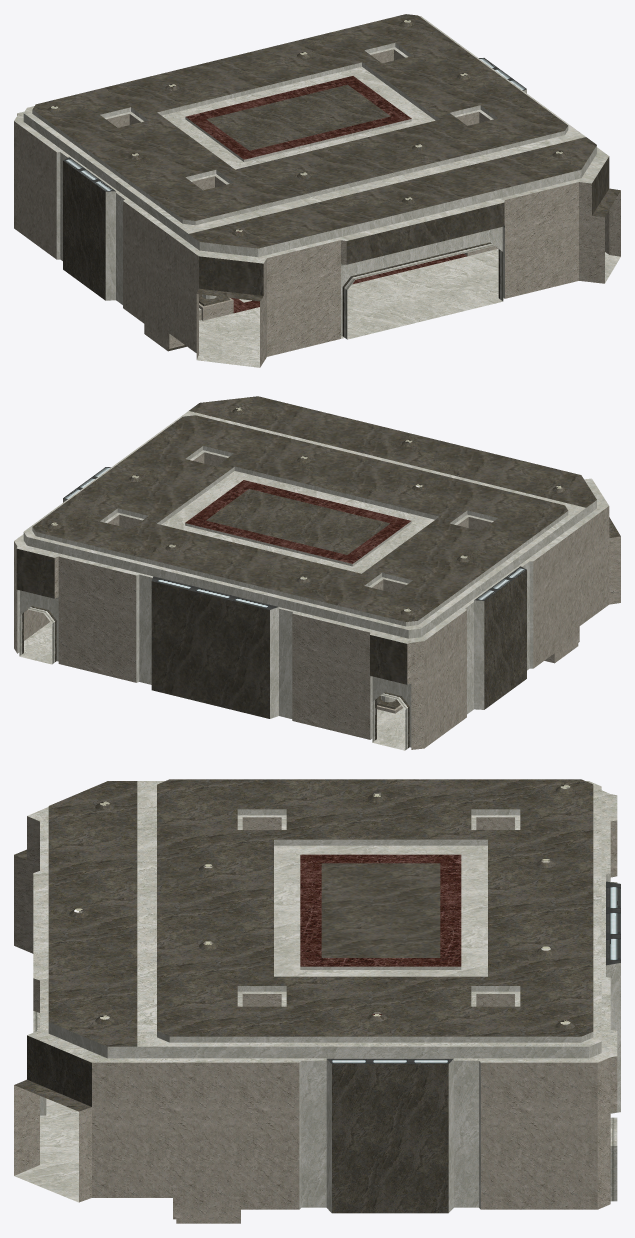
File: ply_all_assoc_hall_civ_s01_r10_mainhall_mesh_mainhall.fbx
The picture shows the model from 3 angles, top to bottom: view 1: azimuth 30°, elevation 25°; view 2: azimuth 150°, elevation 25°; view 3: azimuth 270°, elevation 25°; orthographic projection. The views are drawn at different scales.
Parts seen in each view (by area): view 1: mesh_node; view 2: mesh_node; view 3: mesh_node.
Part boxes in pixels (x1,y1,x2,y2): mesh_node: [14, 14, 620, 367]; mesh_node: [14, 396, 620, 750]; mesh_node: [14, 779, 620, 1223].
Size of the model in its own units: 25.85 by 7.74 by 23.39.
